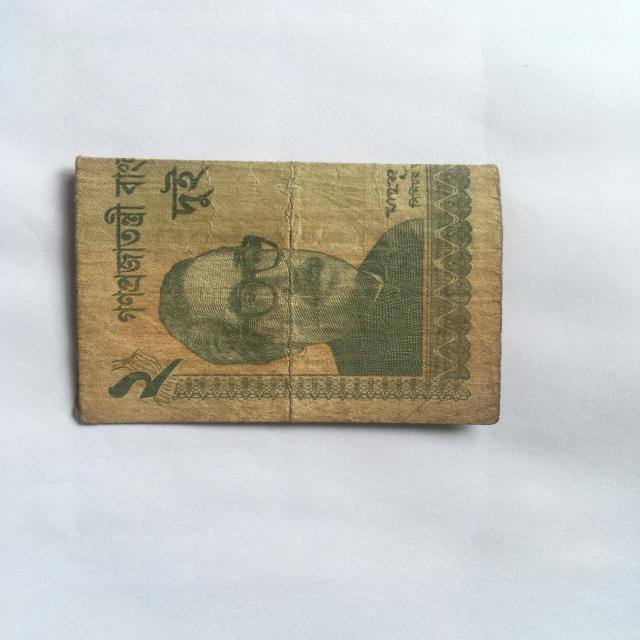Taka: (59, 147, 505, 428)
